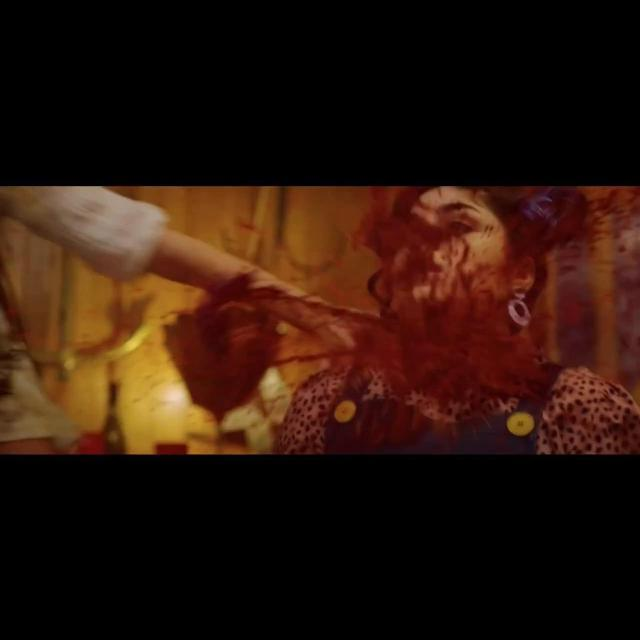blood: (270, 187, 640, 454), (162, 264, 302, 425), (10, 281, 156, 354), (257, 397, 278, 420), (238, 218, 256, 232), (222, 232, 232, 249)
